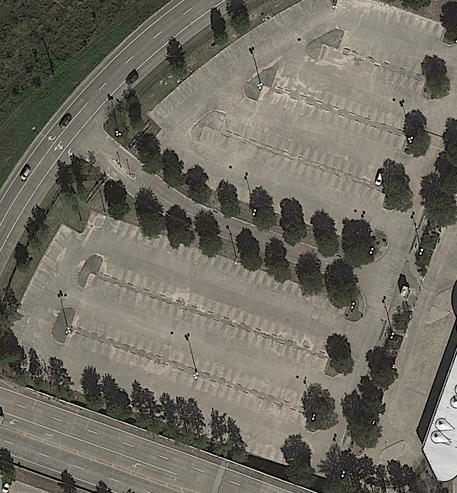parkingspot: (84, 209, 350, 320), (146, 132, 375, 245), (63, 327, 312, 430), (69, 311, 316, 414), (83, 272, 331, 374), (97, 258, 336, 359), (147, 0, 334, 127), (197, 125, 390, 208), (219, 114, 395, 191), (255, 84, 409, 152), (270, 70, 414, 135), (10, 222, 78, 345), (316, 42, 428, 98), (339, 30, 432, 81), (336, 0, 446, 41), (243, 436, 296, 468)
